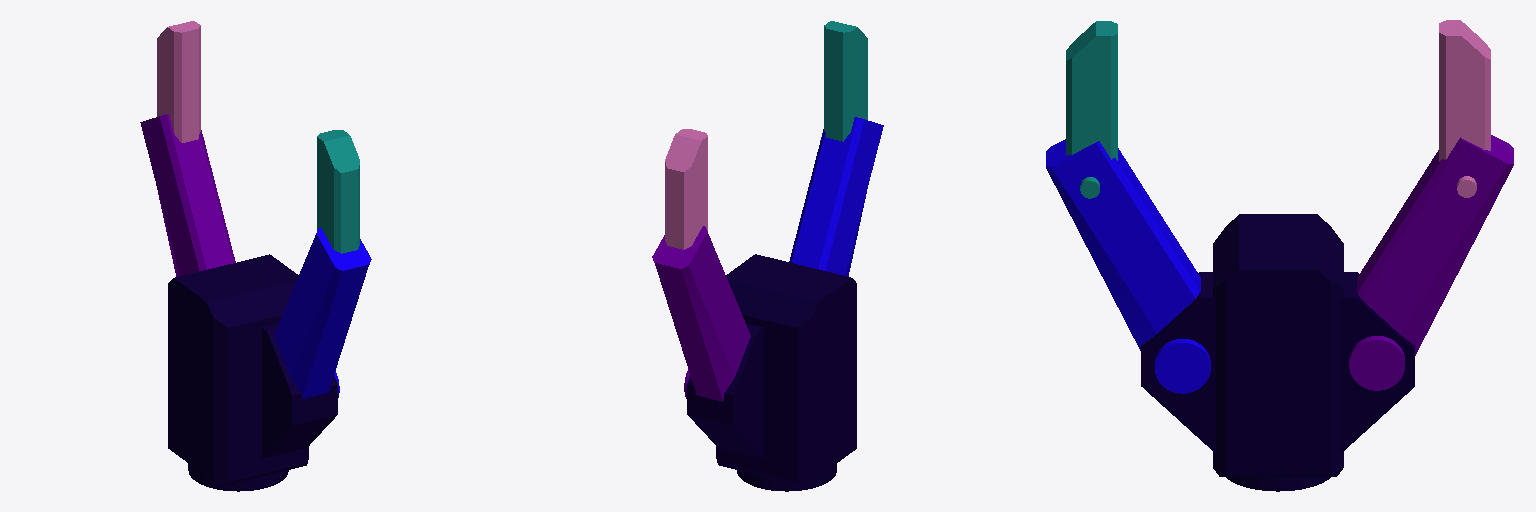
robot.urdf — robot:
<?xml version='1.0' encoding='utf-8'?>
<robot name="robot">
  <link name="base_footprint"><inertial><origin xyz="0 0 0" rpy="0 0 0" /><mass value="5e-07" /><inertia ixx="5e-10" ixy="0" ixz="0" iyy="5e-10" iyz="0" izz="5e-10" /></inertial></link>
  <joint name="base_joint" type="fixed">
    <parent link="base_footprint" />
    <child link="base_link" />
    <origin xyz="0 0 0" rpy="1.5708 0 1.5708" />
  </joint>
  <link name="base_link">
    <visual>
      <origin xyz="0 0 0" rpy="0 0 0" />
      <geometry>
        <mesh filename="package://robot_description/meshes/baselink.stl" scale="0.001 0.001 0.001" />
      </geometry>
      <material name="base_link-material">
        <color rgba="0.08228270712149792 0.019382360952473074 0.2541520943200296 1" />
      </material>
    </visual>
    <collision>
      <origin xyz="0 0 0" rpy="0 0 0" />
      <geometry>
        <mesh filename="package://robot_description/meshes/baselink.stl" scale="0.001 0.001 0.001" />
      </geometry>
    </collision>
    <inertial>
      <origin xyz="0 0 0" rpy="0 0 0" />
      <mass value="0.0005" />
      <inertia ixx="2e-06" ixy="0" ixz="0" iyy="2e-06" iyz="0" izz="2e-06" />
    </inertial>
  </link>
  <joint name="base_link_to_LINK1A" type="revolute">
    <parent link="base_link" />
    <child link="LINK1A" />
    <origin xyz="-0.029 0.042 0.016" rpy="0 0 0" />
    <axis xyz="-0.00164931 -0.00672792 0.0997598" />
    <limit effort="10" lower="-0.4" upper="0.6" velocity="0.5" />  </joint>
  <link name="LINK1A">
    <visual>
      <origin xyz="0.03 -0.041 -0.016" rpy="0 0 0" />
      <geometry>
        <mesh filename="package://robot_description/meshes/link1a 2.stl" scale="1 1 1" />
      </geometry>
      <material name="cube1-material">
        <color rgba="0.10702310296918527 0.02121901037134225 0.9734452903978066 1" />
      </material>
    </visual>
    <collision>
      <origin xyz="0.03 -0.041 -0.016" rpy="0 0 0" />
      <geometry>
        <mesh filename="package://robot_description/meshes/link1a 2.stl" scale="1 1 1" />
      </geometry>
    </collision>
    <inertial>
      <origin xyz="0.03 -0.041 -0.016" rpy="0 0 0" />
      <mass value="0.0005" />
      <inertia ixx="2e-06" ixy="0" ixz="0" iyy="2e-06" iyz="0" izz="2e-06" />
    </inertial>
  </link>
  <joint name="LINK1A_to_LINK1B" type="revolute">
    <parent link="LINK1A" />
    <child link="LINK1B" />
    <origin xyz="-0.0286653 0.058989 0" rpy="0 0 0" />
    <axis xyz="0 0 0.1" />
    <limit effort="10" lower="-1" upper="1" velocity="0.5" />  </joint>
  <link name="LINK1B">
    <visual>
      <origin xyz="0.065 -0.100989 -0.015" rpy="0 0 0" />
      <geometry>
        <mesh filename="package://robot_description/meshes/link1b.stl" scale="1 1 1" />
      </geometry>
      <material name="cube2-material">
        <color rgba="0.10702310296918527 0.5647115056965487 0.5394794890033748 1" />
      </material>
    </visual>
    <collision>
      <origin xyz="0.101 -0.142989 -0.03" rpy="0 0 0" />
      <geometry>
        <mesh filename="package://robot_description/meshes/link1b.stl" scale="1 1 1" />
      </geometry>
    </collision>
    <inertial>
      <origin xyz="0.101 -0.142989 -0.03" rpy="0 0 0" />
      <mass value="0.0005" />
      <inertia ixx="2e-06" ixy="0" ixz="0" iyy="2e-06" iyz="0" izz="2e-06" />
    </inertial>
  </link>
  <joint name="base_link_to_LINK2A" type="revolute">
    <parent link="base_link" />
    <child link="LINK2A" />
    <origin xyz="0.029 0.042 0.016" rpy="0 0 0" />
    <axis xyz="0 0 0.1" />
    <limit effort="10" lower="-1" upper="0.4" velocity="0.5" />  </joint>
  <link name="LINK2A">
    <visual>
      <origin xyz="-0.029 -0.04 -0.016" rpy="0 0 0" />
      <geometry>
        <mesh filename="package://robot_description/meshes/link2a.stl" scale="1 1 1" />
      </geometry>
      <material name="cube3-material">
        <color rgba="0.4286904966038916 0.0069954101845983935 0.6307571363387763 1" />
      </material>
    </visual>
    <collision>
      <origin xyz="-0.029 -0.04 -0.016" rpy="0 0 0" />
      <geometry>
        <mesh filename="package://robot_description/meshes/link2a.stl" scale="1 1 1" />
      </geometry>
    </collision>
    <inertial>
      <origin xyz="-0.029 -0.04 -0.016" rpy="0 0 0" />
      <mass value="0.0005" />
      <inertia ixx="2e-06" ixy="0" ixz="0" iyy="2e-06" iyz="0" izz="2e-06" />
    </inertial>
  </link>
  <joint name="LINK2A_to_LINK2B" type="revolute">
    <parent link="LINK2A" />
    <child link="LINK2B" />
    <origin xyz="0.029 0.059 0" rpy="0 0 0" />
    <axis xyz="0 0 0.1" />
    <limit effort="10" lower="-1" upper="1" velocity="0.5" />  </joint>
  <link name="LINK2B">
    <visual>
      <origin xyz="-0.0652158 -0.100771 -0.0151186" rpy="0 0 0" />
      <geometry>
        <mesh filename="package://robot_description/meshes/link2b.stl" scale="1 1 1" />
      </geometry>
      <material name="cube4-material">
        <color rgba="0.8148465722120952 0.4452011945063733 0.7011018919268015 1" />
      </material>
    </visual>
    <collision>
      <origin xyz="-0.0652158 -0.100771 -0.0166186" rpy="0 0 0" />
      <geometry>
        <mesh filename="package://robot_description/meshes/link2b.stl" scale="1 1 1" />
      </geometry>
    </collision>
    <inertial>
      <origin xyz="-0.0652158 -0.100771 -0.0166186" rpy="0 0 0" />
      <mass value="0.0005" />
      <inertia ixx="2e-06" ixy="0" ixz="0" iyy="2e-06" iyz="0" izz="2e-06" />
    </inertial>
  </link>
</robot>

--- What the picture shows (computed from the rendered views, not written in the file) ---
Views: 3 orthographic renders of the robot side by side, from view 1: azimuth 30°, elevation 25°; view 2: azimuth 150°, elevation 25°; view 3: azimuth 270°, elevation 25°.
Robot: robot — 6 links, 5 joints (4 revolute, 1 fixed); root link base_footprint; default pose: all joints at 0.
Links seen in each view (by area): view 1: base_link, LINK1A, LINK2A, LINK1B, LINK2B; view 2: base_link, LINK2A, LINK1A, LINK1B, LINK2B; view 3: base_link, LINK2A, LINK1A, LINK1B, LINK2B.
Link boxes in pixels (x1,y1,x2,y2): base_link: [168, 254, 337, 491]; LINK1A: [274, 228, 371, 398]; LINK2A: [140, 114, 235, 276]; LINK1B: [317, 130, 359, 253]; LINK2B: [157, 21, 204, 142]; base_link: [687, 254, 856, 491]; LINK2A: [652, 226, 750, 401]; LINK1A: [789, 117, 883, 276]; LINK1B: [820, 21, 867, 141]; LINK2B: [665, 129, 707, 249]; base_link: [1141, 214, 1414, 491]; LINK2A: [1349, 135, 1513, 390]; LINK1A: [1046, 139, 1210, 393]; LINK1B: [1066, 21, 1117, 198]; LINK2B: [1439, 20, 1490, 197].
Size in the robot's own frame: 0.04 by 0.1436 by 0.1522 metres.
Meshes: 5 distinct files referenced, 5 mesh visuals loaded (5 binary STL).